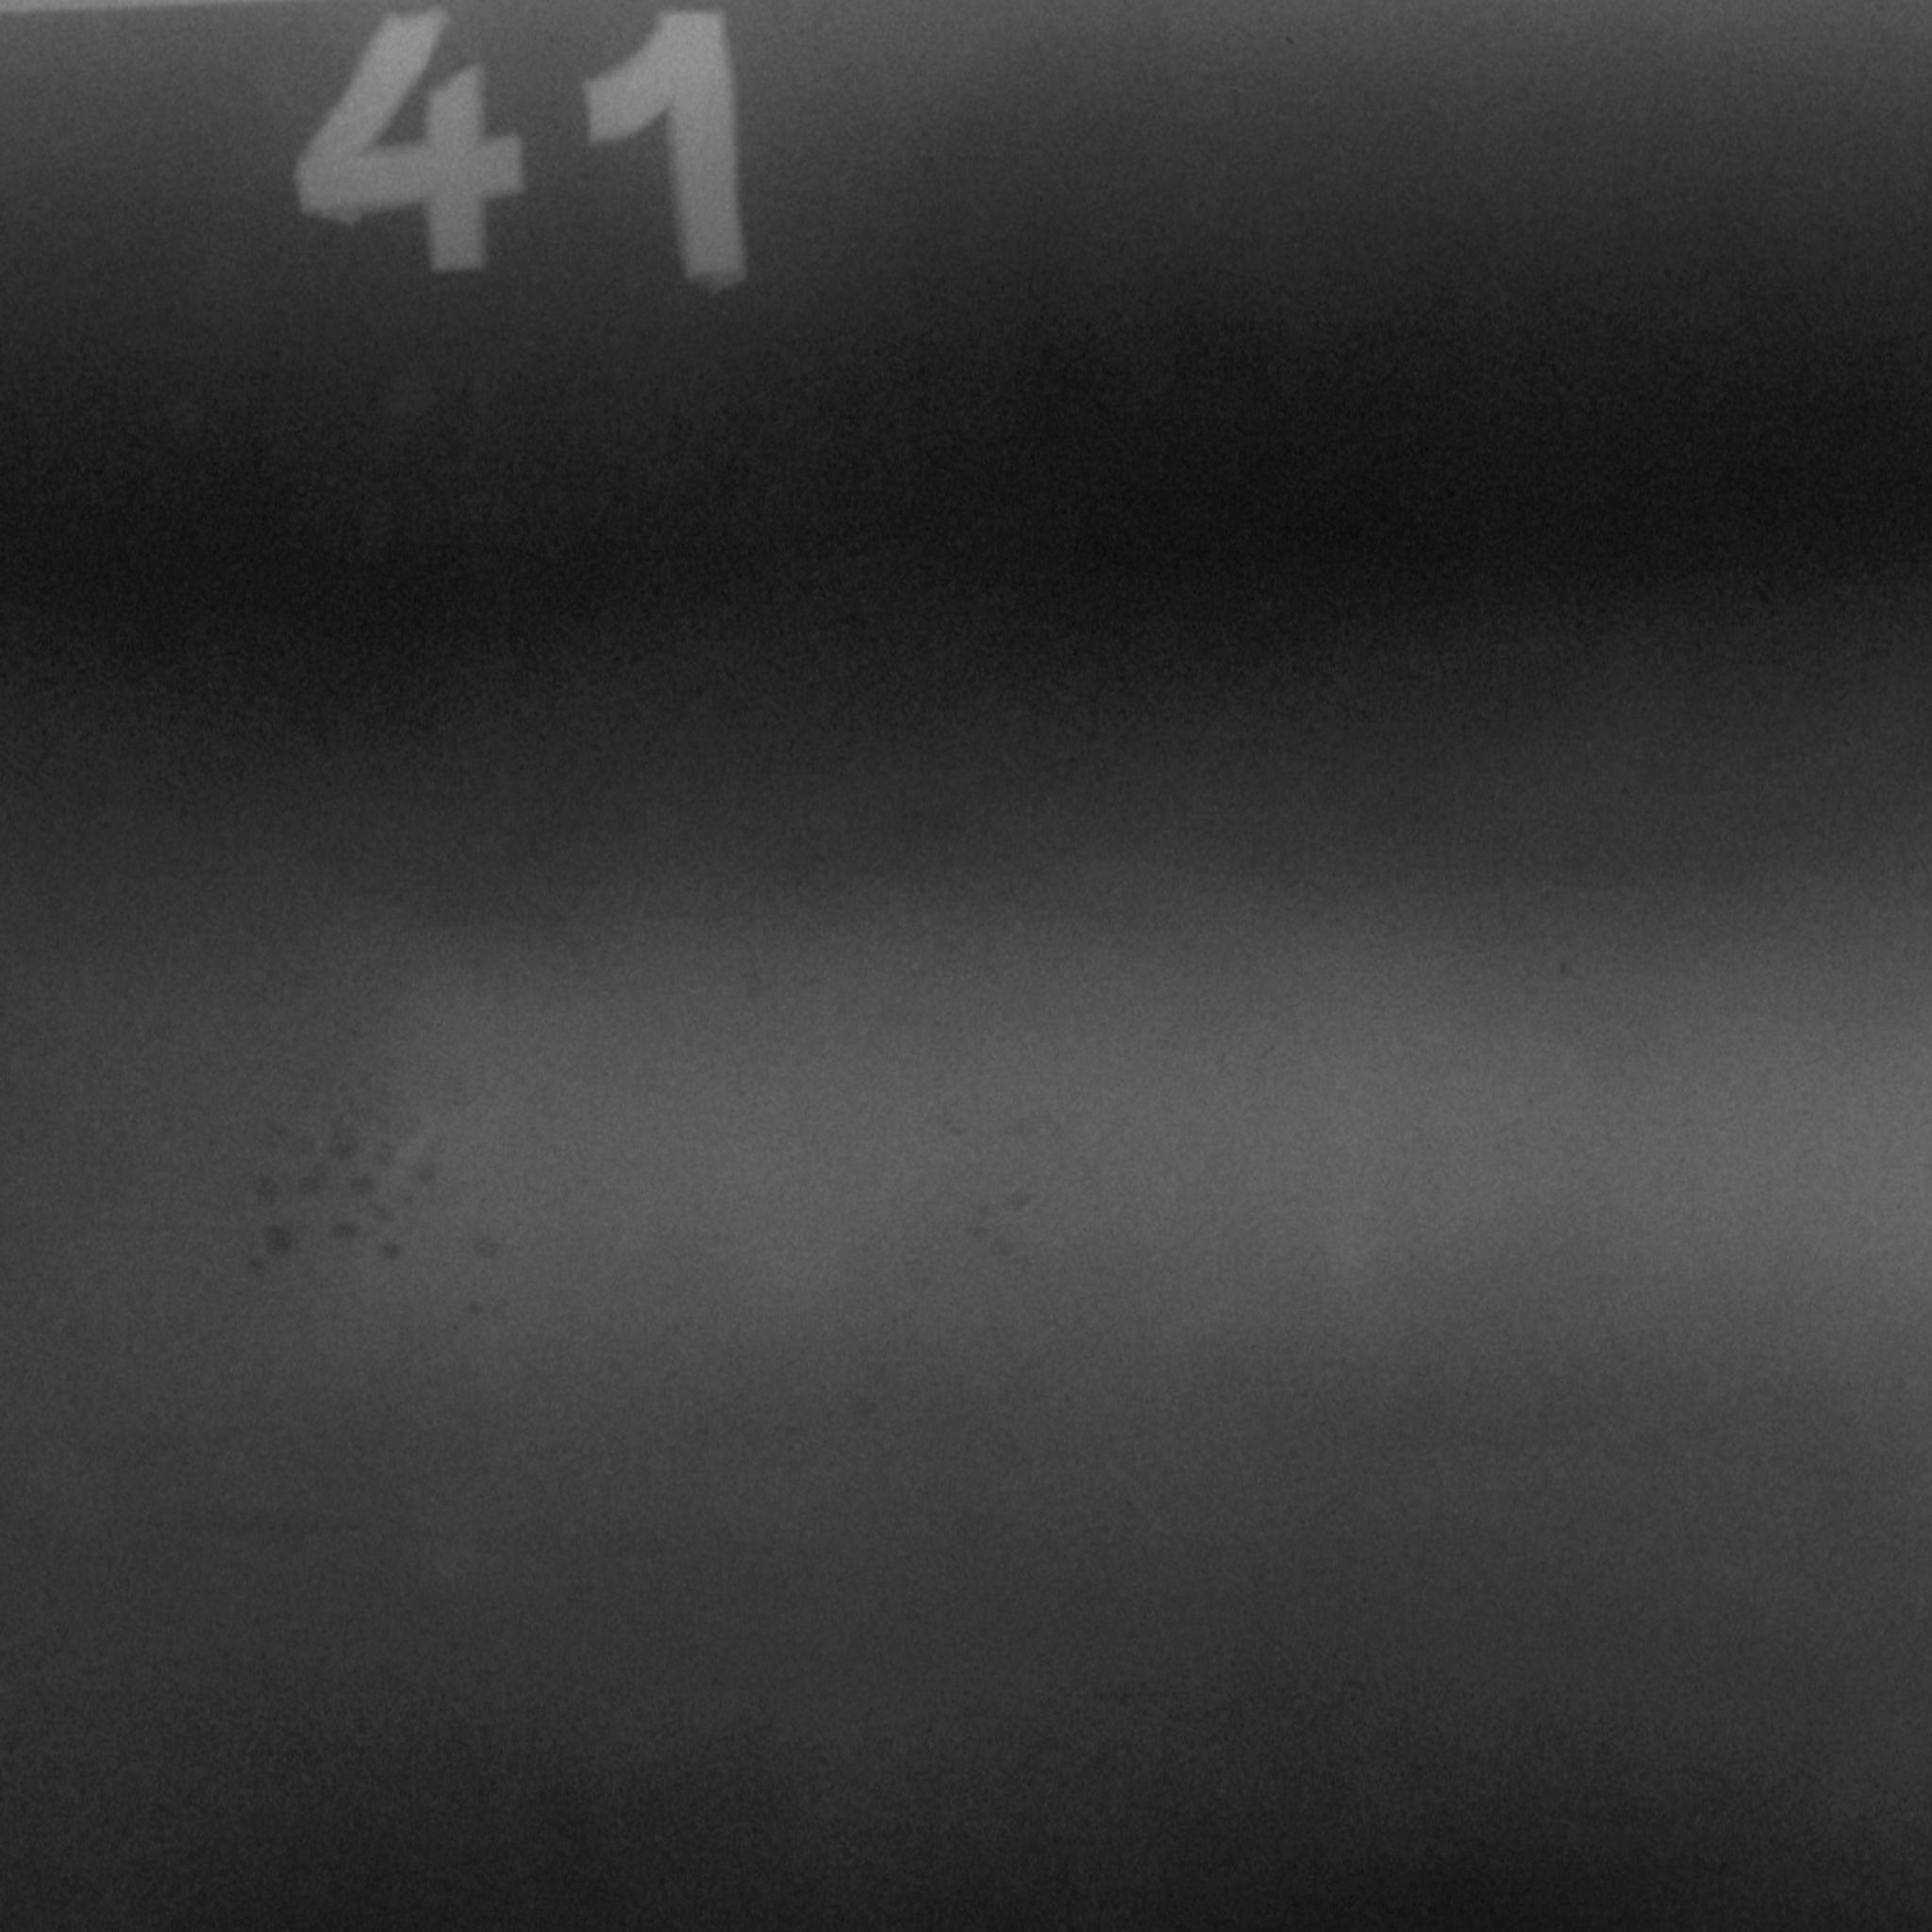IE: (177, 1003, 557, 1373), (851, 1072, 1134, 1373)
